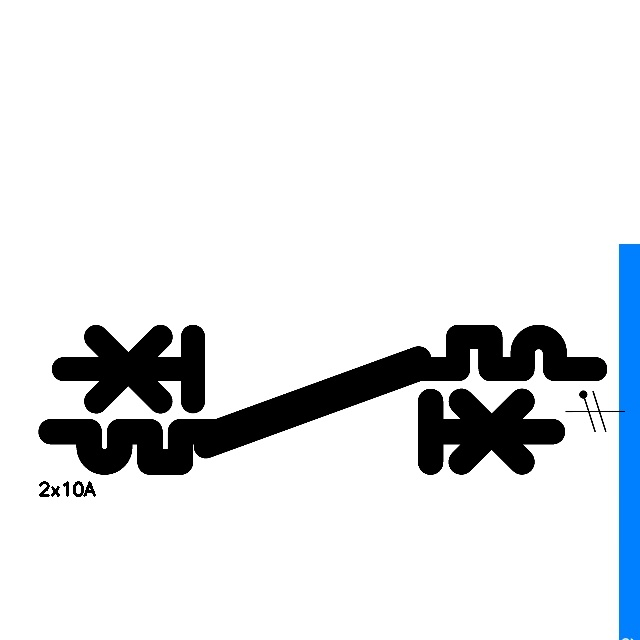interruptor_termomagnetico: (50, 323, 609, 460), (38, 346, 565, 475)
